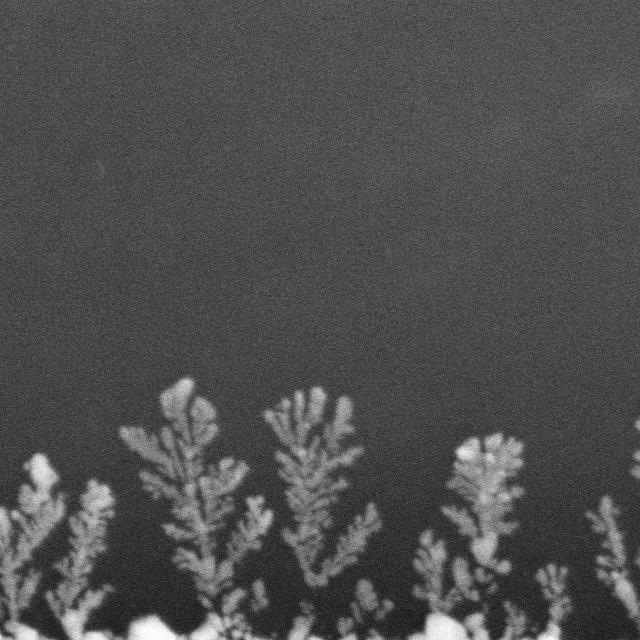Dendrite: (120, 378, 272, 640), (265, 386, 382, 640), (413, 432, 523, 640), (0, 453, 86, 640), (48, 480, 112, 640), (336, 579, 388, 640), (533, 563, 572, 640)
